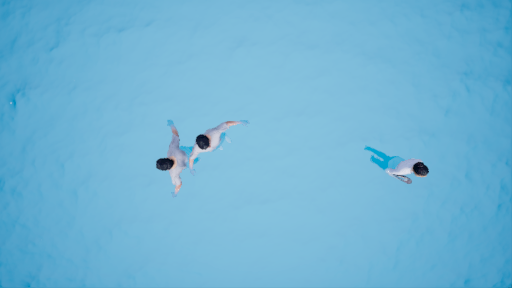person: (146, 108, 206, 196), (360, 140, 443, 193), (189, 106, 250, 178)
